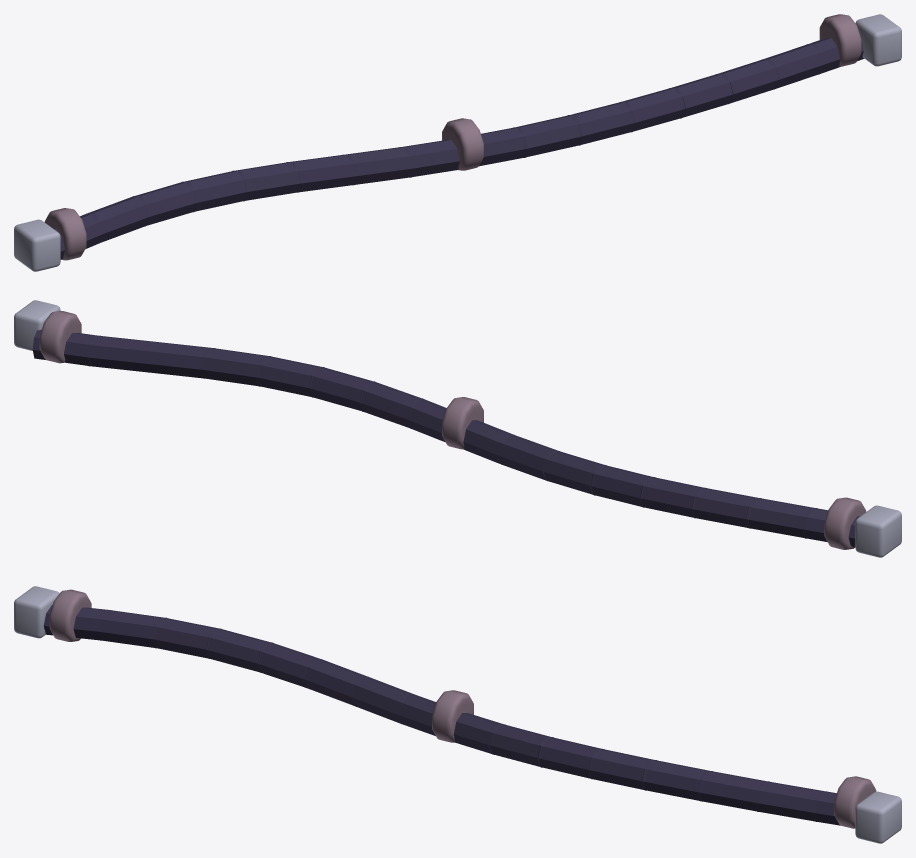
File: cable.glb
The picture shows the model from 3 angles, top to bottom: view 1: azimuth 30°, elevation 25°; view 2: azimuth 150°, elevation 25°; view 3: azimuth 330°, elevation 25°; orthographic projection.
Visible parts, largest first — view 1: cable; view 2: cable; view 3: cable.
Part boxes in pixels (bbox=[...]): cable: bbox=[14, 14, 901, 271]; cable: bbox=[14, 300, 901, 557]; cable: bbox=[14, 586, 901, 843].
Bounding box in the file's own units: 4.24 × 0.2263 × 0.3803.
